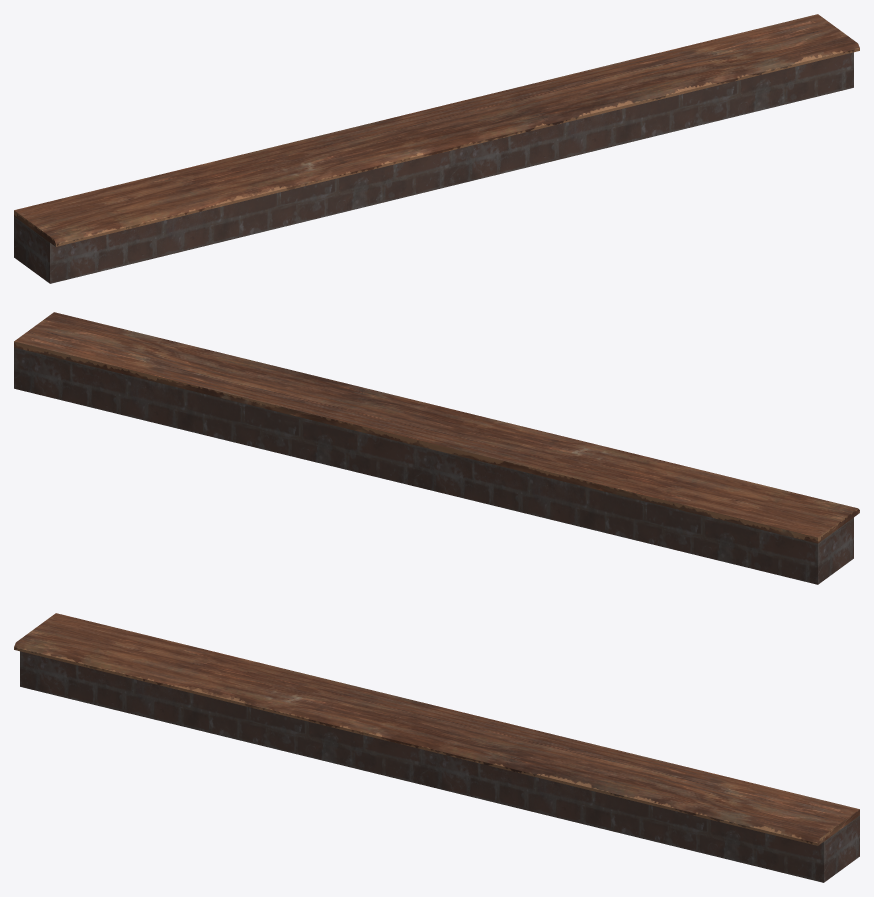
Rendered from Kit_LadderSingle.fbx.
The picture shows the model from 3 angles, top to bottom: view 1: azimuth 30°, elevation 25°; view 2: azimuth 150°, elevation 25°; view 3: azimuth 330°, elevation 25°; orthographic projection.
Visible parts, largest first — view 1: Kit_LadderSingle; view 2: Kit_LadderSingle; view 3: Kit_LadderSingle.
Boxes of the visible parts, box(x1,y1,x2,y2) form: Kit_LadderSingle: box(14, 14, 859, 283); Kit_LadderSingle: box(14, 312, 859, 584); Kit_LadderSingle: box(14, 613, 859, 882).
Size of the model in its own units: 139 by 7.83 by 12.61.
